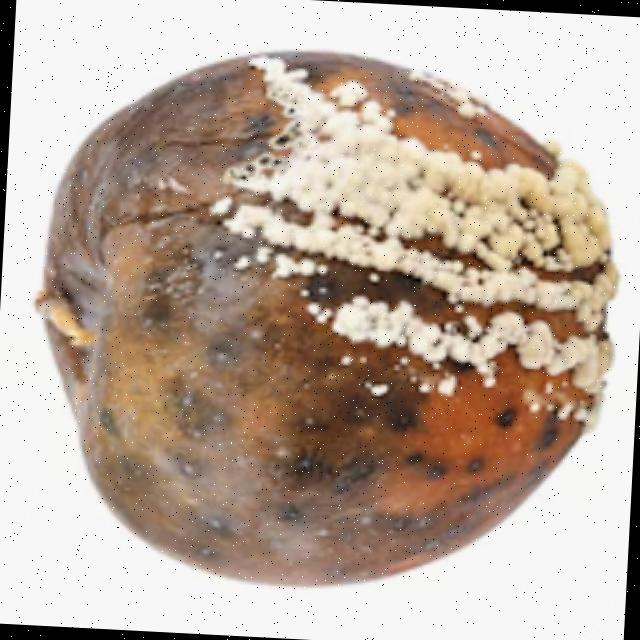Rotten: (17, 26, 634, 606)
